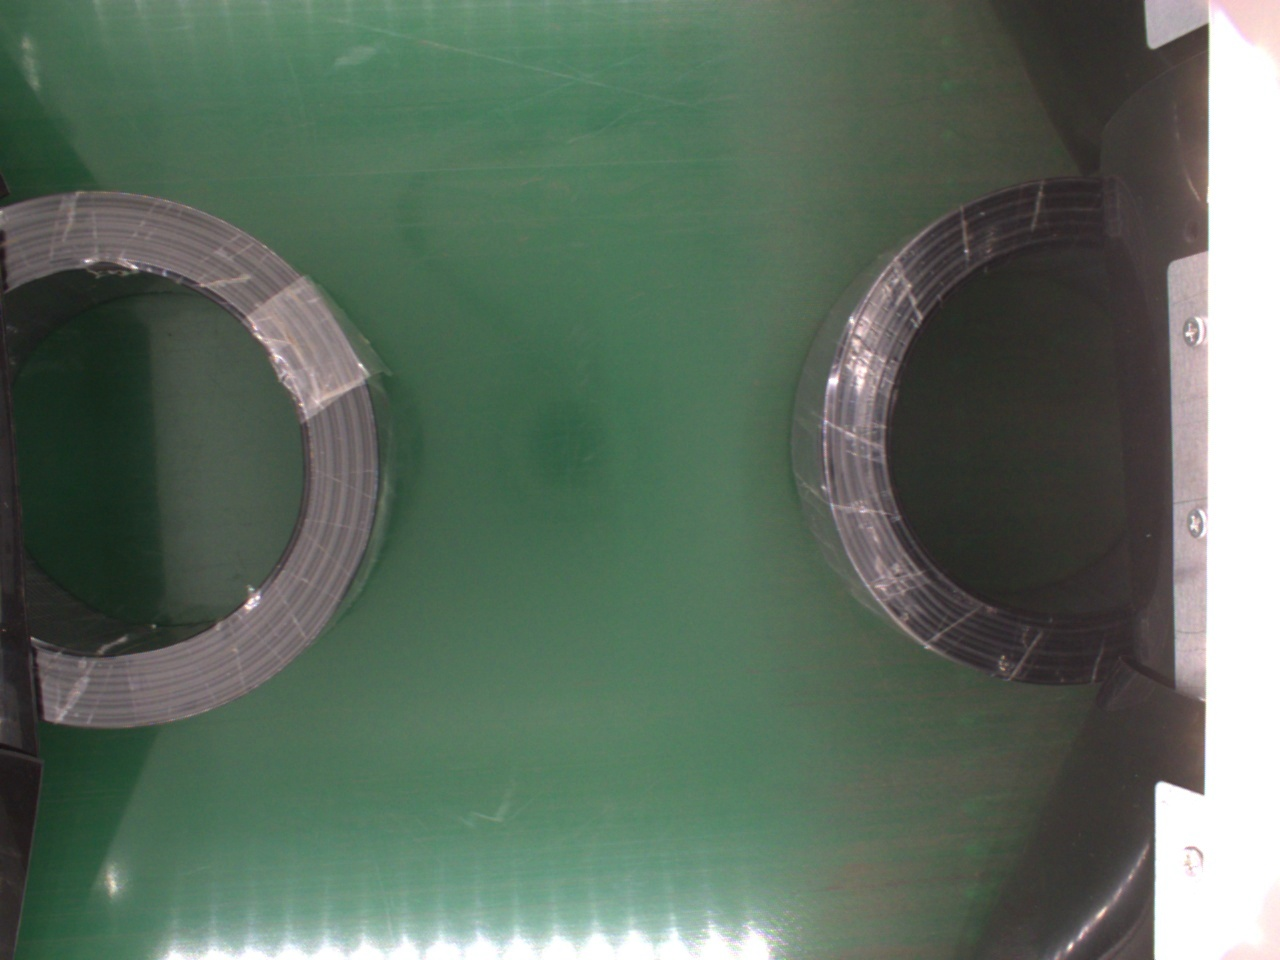black: (10, 188, 386, 733), (786, 177, 1133, 692)
